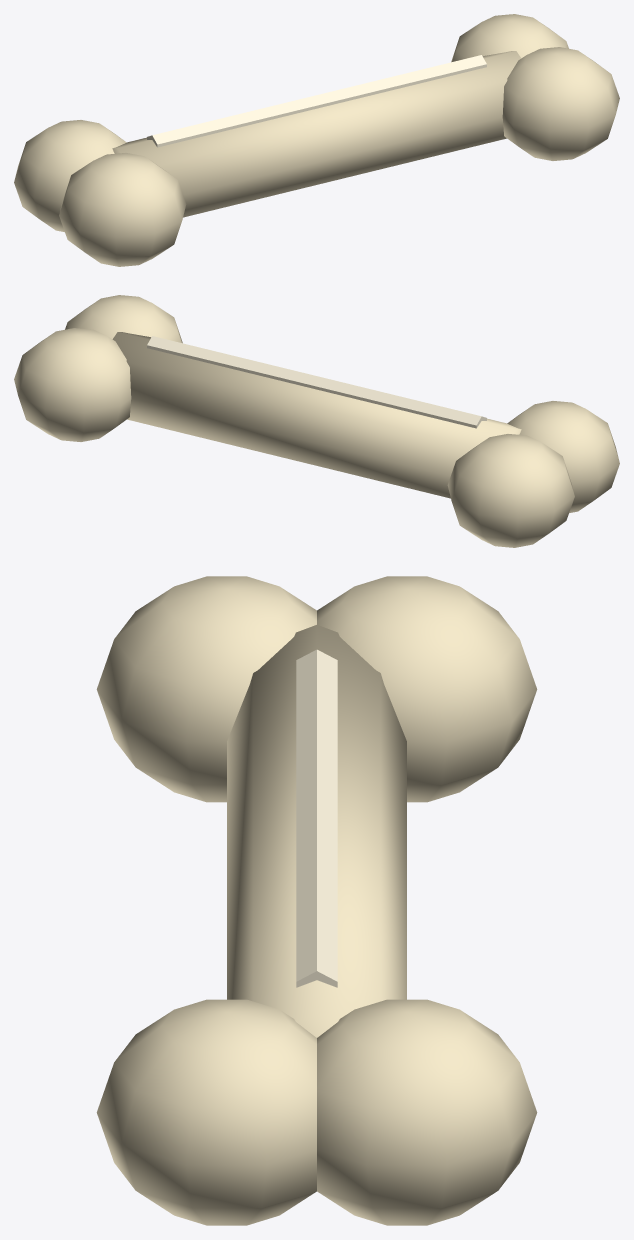
File: v2_bone.glb
3 views of the same model, one above another, from view 1: azimuth 30°, elevation 25°; view 2: azimuth 150°, elevation 25°; view 3: azimuth 270°, elevation 25° (orthographic). The views are drawn at different scales.
Parts seen in each view (by area): view 1: V2Bone; view 2: V2Bone; view 3: V2Bone.
Boxes of the visible parts, left/top/right/bottom form: V2Bone: left=14, top=14, right=619, bottom=266; V2Bone: left=14, top=295, right=619, bottom=547; V2Bone: left=96, top=576, right=537, bottom=1225.
Size of the model in its own units: 0.6236 by 0.1105 by 0.22.
